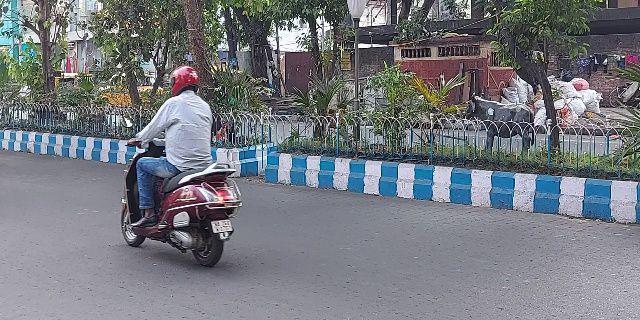Motorbike: (115, 66, 245, 273)
